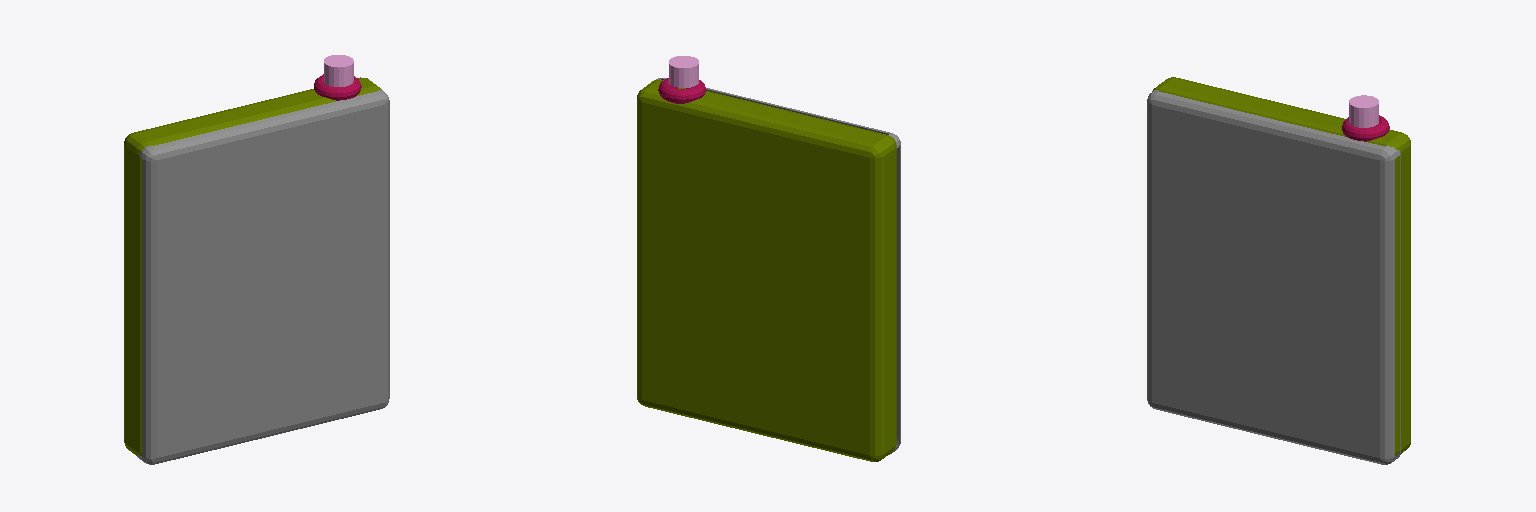
Rendered from aed.obj.
The picture shows the model from 3 angles: view 1: azimuth 30°, elevation 25°; view 2: azimuth 150°, elevation 25°; view 3: azimuth 330°, elevation 25°; orthographic projection.
Parts seen in each view (by area): view 1: ChamferBox002, ChamferBox004, Cylinder001, Torus001; view 2: ChamferBox004, ChamferBox002, Cylinder001, Torus001; view 3: ChamferBox002, ChamferBox004, Cylinder001, Torus001.
Part boxes in pixels (x1,y1,x2,y2): ChamferBox002: (137,89,389,464); ChamferBox004: (124,77,381,455); Cylinder001: (324,55,353,86); Torus001: (314,74,361,100); ChamferBox004: (637,80,896,461); ChamferBox002: (656,78,900,454); Cylinder001: (669,56,698,87); Torus001: (658,78,705,103); ChamferBox002: (1147,90,1400,464); ChamferBox004: (1152,77,1410,455); Cylinder001: (1349,95,1378,127); Torus001: (1342,115,1389,141).
Size of the model in its own units: 13.03 by 17.54 by 2.58.